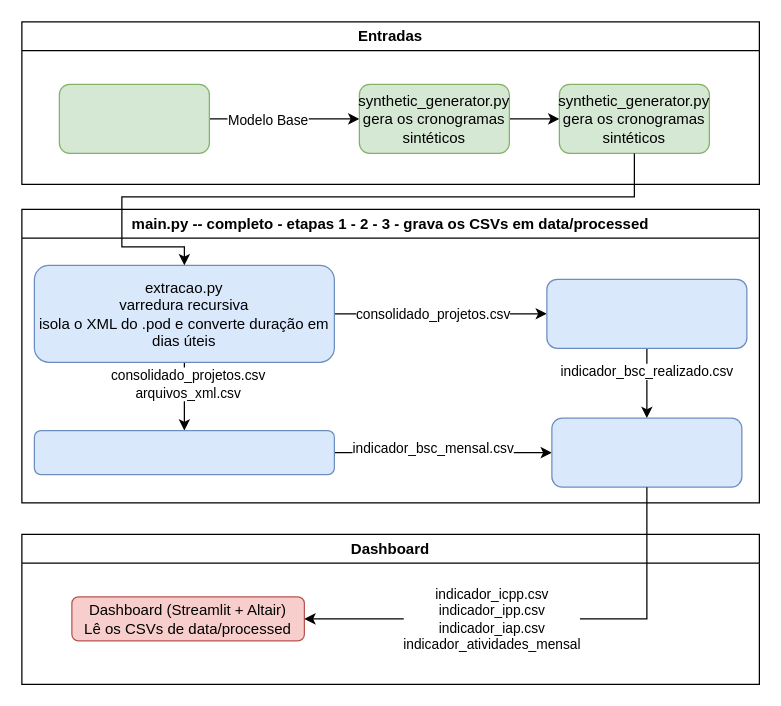
Image size: 781x706. Some labels were removed from this diagram. Each missing label, with the centre of its shape:
bsc_cons.py data de referência - atividades vencidas calcula ICPP, IPP e IAP: (646,452)
bsc_previsto.py rateio por sobreposição de dias úteis: (183,452)
bsc_realizado.py % concluído ponderado pela duração: (646,313)
data/raw Cronogramas modelo .xml e .pod: (133,118)
